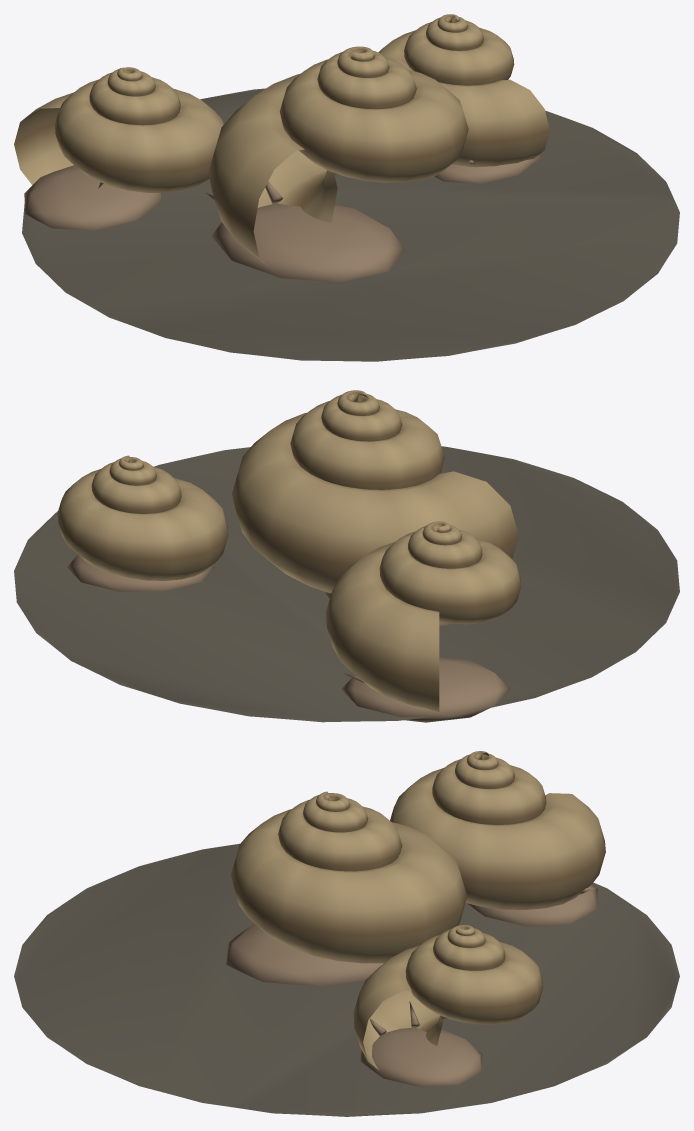
File: CyclonemaBilix.fbx
3 renders of one model, top to bottom at view 1: azimuth 30°, elevation 25°; view 2: azimuth 150°, elevation 25°; view 3: azimuth 270°, elevation 25°, orthographic.
Visible parts, largest first — view 1: CyclonemaBilix; view 2: CyclonemaBilix; view 3: CyclonemaBilix.
Part boxes in pixels (x1,y1,x2,y2): CyclonemaBilix: (14, 14, 679, 361); CyclonemaBilix: (14, 390, 679, 722); CyclonemaBilix: (14, 751, 679, 1116).
Size of the model in its own units: 2 by 0.6683 by 2.
